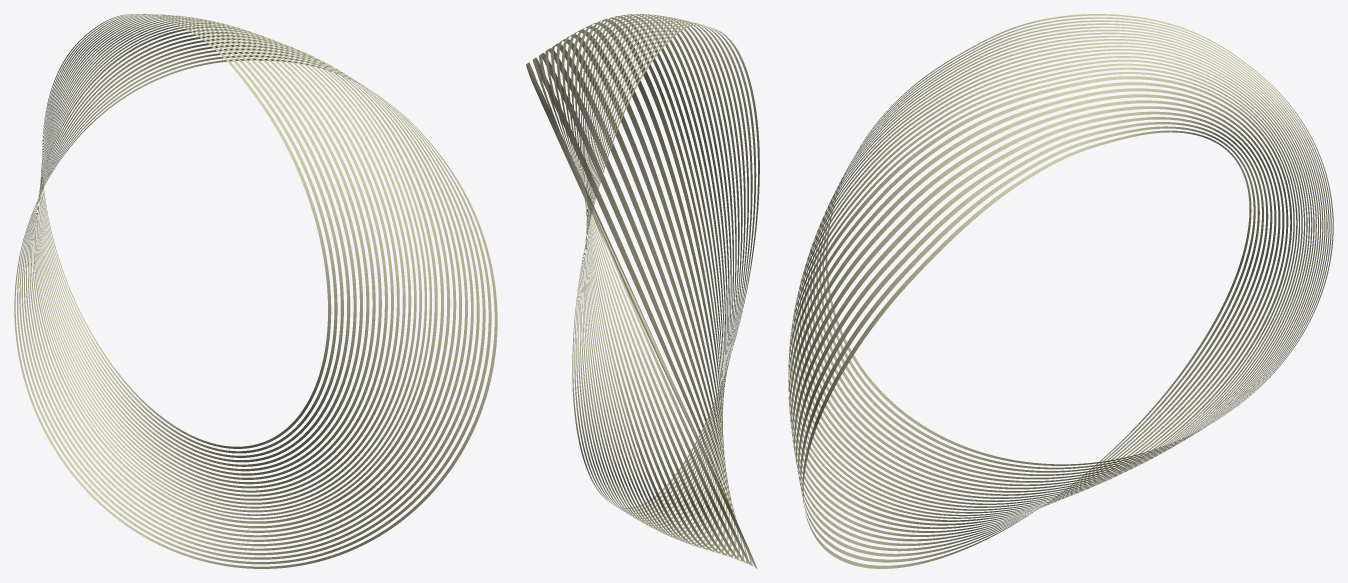
The picture shows the model from 3 angles, left to right: view 1: azimuth 30°, elevation 25°; view 2: azimuth 150°, elevation 25°; view 3: azimuth 270°, elevation 25°; orthographic projection. The views are drawn at different scales.
Parts seen in each view (by area): view 1: Circle; view 2: Circle; view 3: Circle.
Part boxes in pixels (x1,y1,x2,y2): Circle: [14, 14, 497, 568]; Circle: [526, 14, 759, 568]; Circle: [788, 14, 1333, 568].
Bounding box in the file's own units: 1.86 × 2.8 × 2.53.
